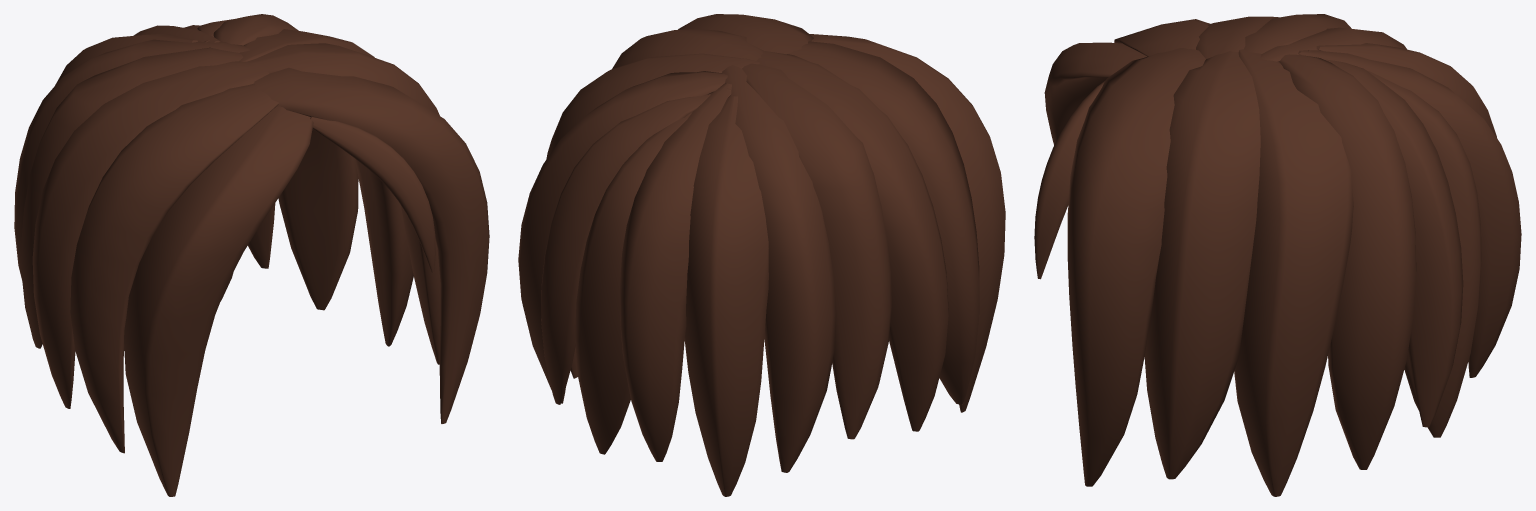
Rendered from hairMediumStraight.glb.
3 renders of one model, left to right at view 1: azimuth 30°, elevation 25°; view 2: azimuth 150°, elevation 25°; view 3: azimuth 270°, elevation 25°, orthographic. The views are drawn at different scales.
Parts seen in each view (by area): view 1: hairMediumStraight; view 2: hairMediumStraight; view 3: hairMediumStraight.
Boxes of the visible parts, x1,y1,x2,y2 form: hairMediumStraight: (14,14,489,496); hairMediumStraight: (518,14,1005,496); hairMediumStraight: (1034,14,1521,496).
Size of the model in its own units: 0.5159 by 0.4607 by 0.5269.
